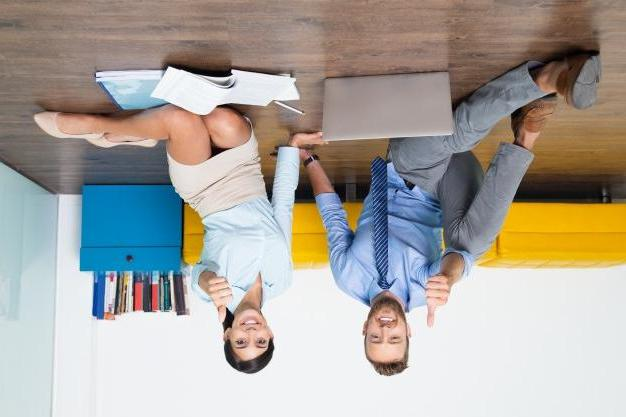thumbsdown: (426, 275, 451, 327), (208, 277, 233, 322)
